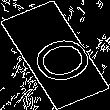O_NE: (14, 24, 96, 86)
